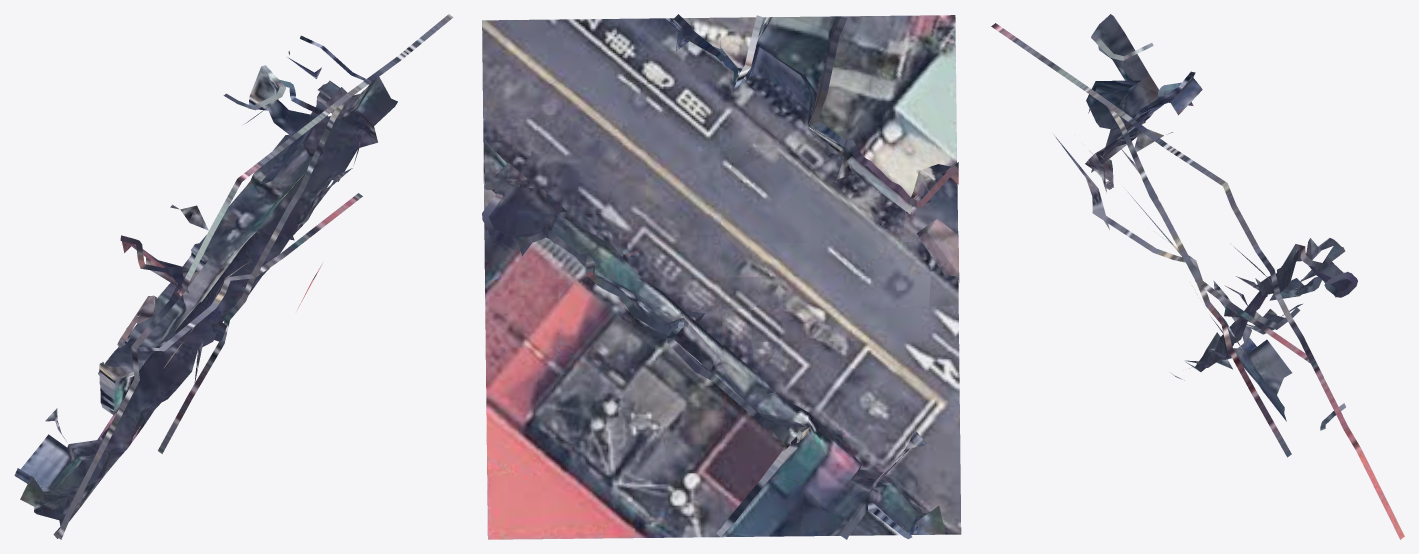
The picture shows the model from 3 angles, left to right: view 1: azimuth 30°, elevation 25°; view 2: azimuth 150°, elevation 25°; view 3: azimuth 270°, elevation 25°; orthographic projection. The views are drawn at different scales.
Bounding box in the file's own units: 39.18 × 37.57 × 32.32.
Materials: 1 (1 with a texture image).
